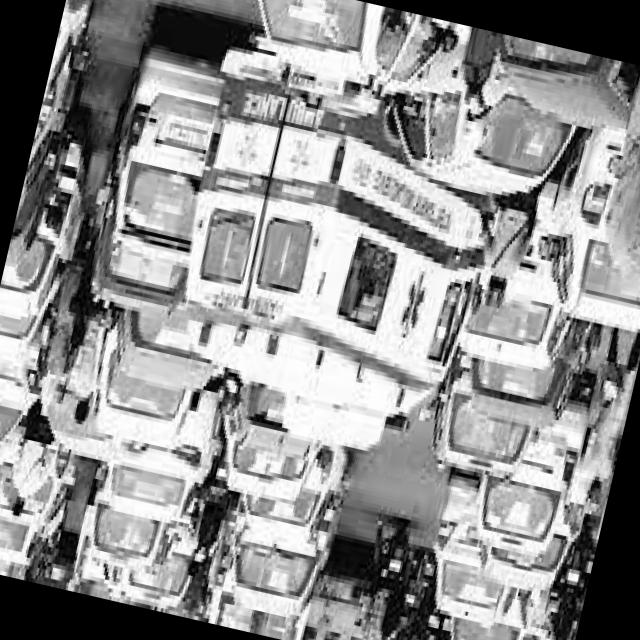ambulance: (142, 62, 513, 472)
